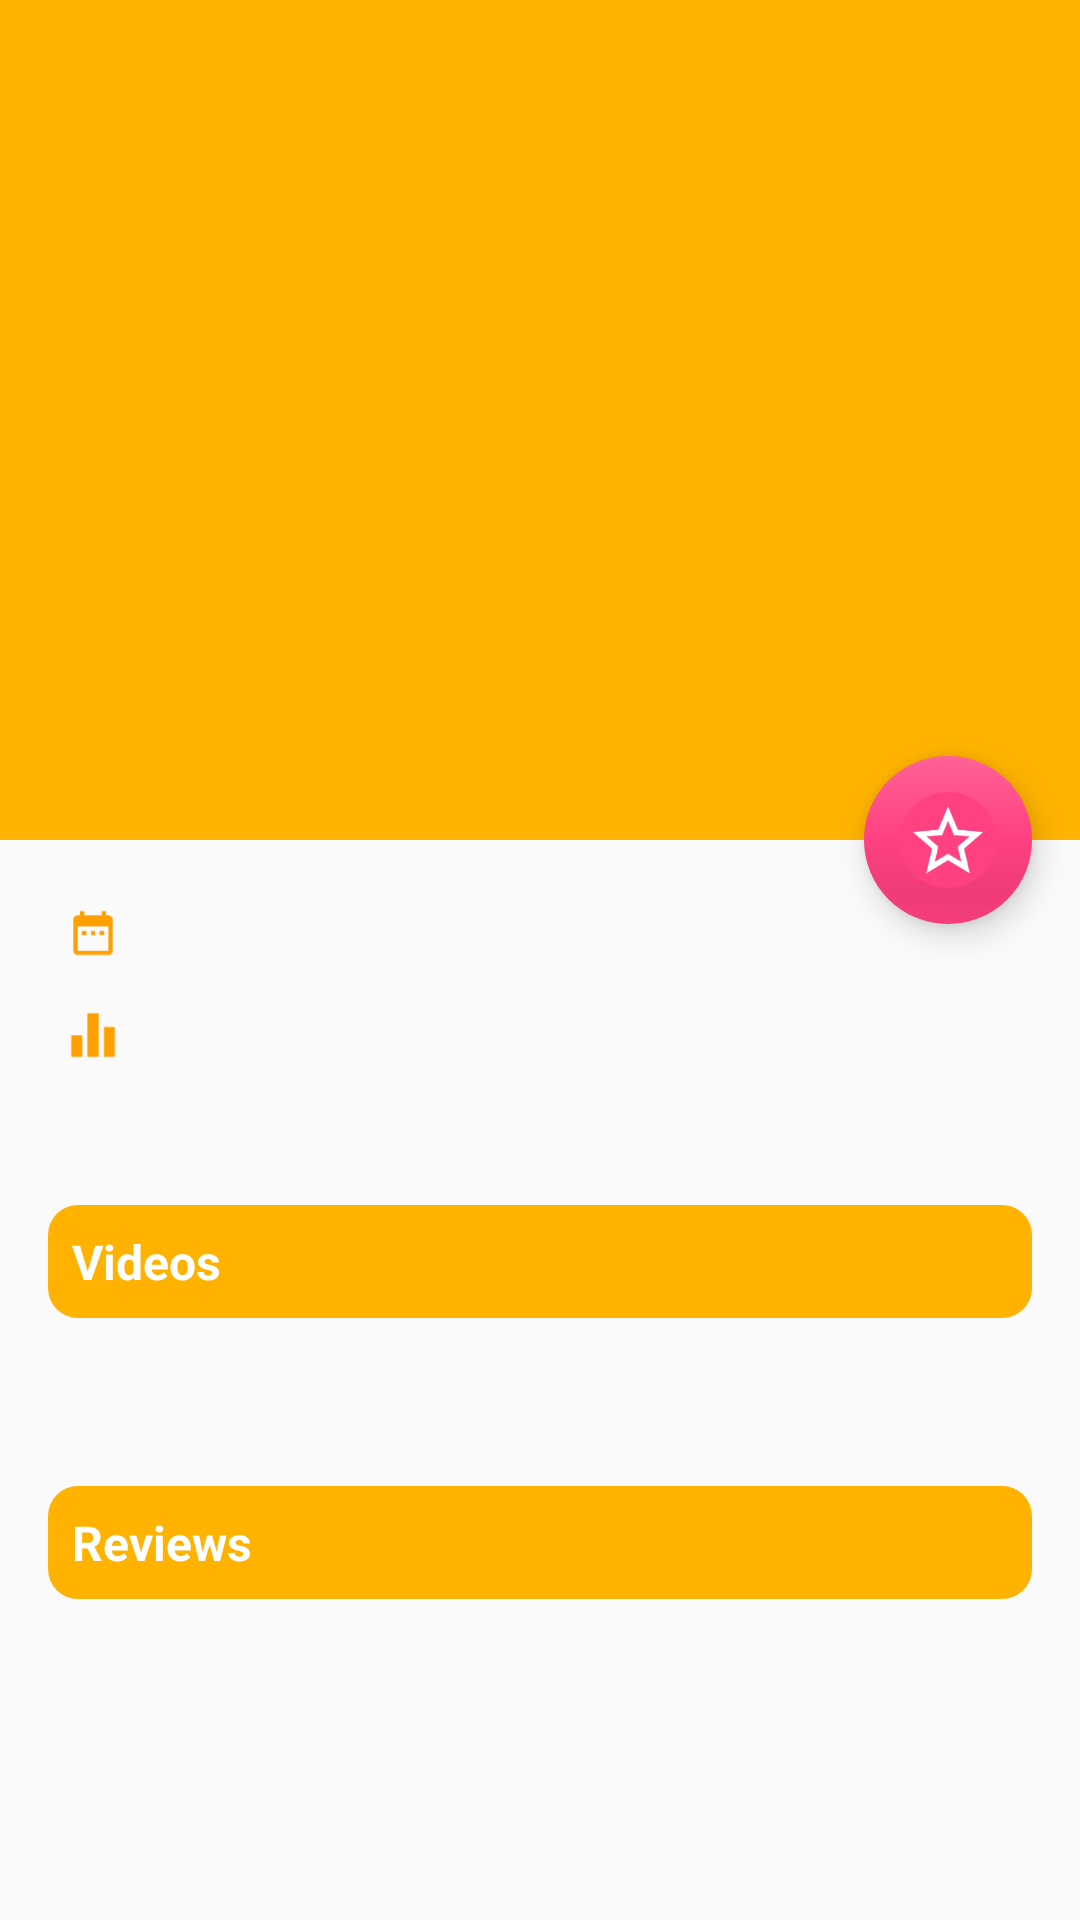

Icons on this 1080px×1920px Android screen, each with the point to tap as [x,y]:
date: [93,933]
star border: [948,840]
